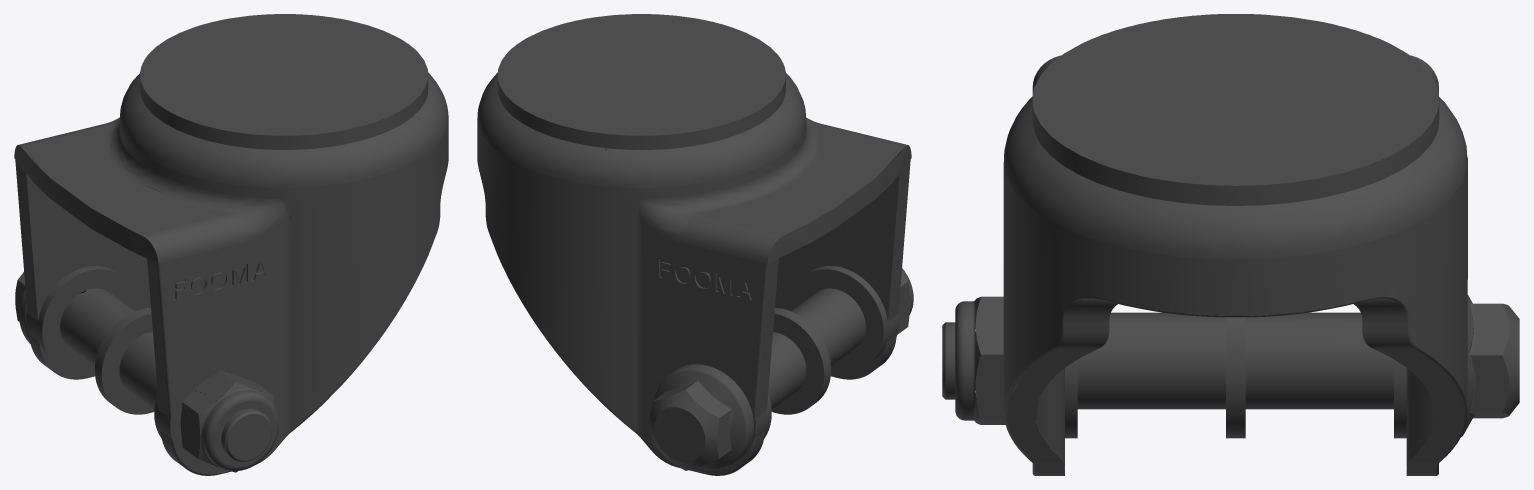
The model's file is caster_rotate.dae.
3 views of the same model, side by side, from view 1: azimuth 30°, elevation 25°; view 2: azimuth 150°, elevation 25°; view 3: azimuth 270°, elevation 25° (orthographic). The views are drawn at different scales.
Parts seen in each view (by area): view 1: caster_rotate; view 2: caster_rotate; view 3: caster_rotate.
Part boxes in pixels (x1=…): caster_rotate: x1=14, y1=14, x2=448, y2=475; caster_rotate: x1=477, y1=14, x2=913, y2=475; caster_rotate: x1=942, y1=14, x2=1519, y2=475.
Size of the model in its own units: 0.0897 by 0.0895 by 0.0759.
Materials: 1 (1 with a texture image).
